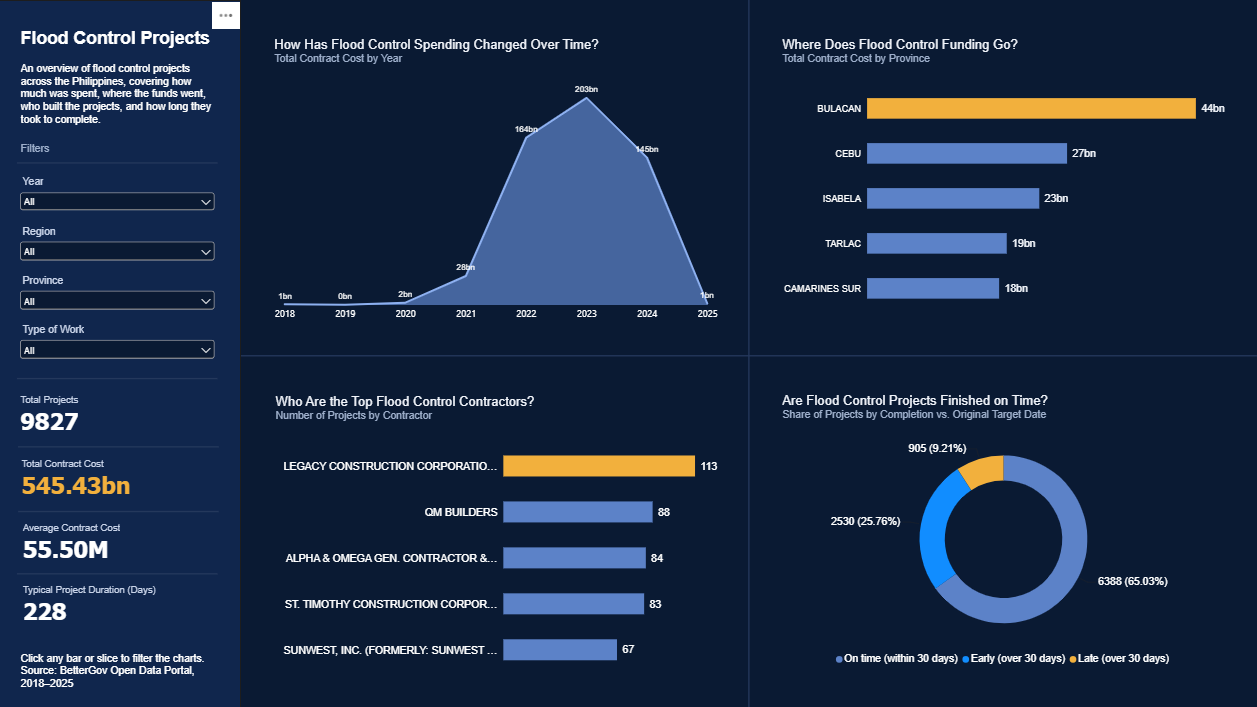

Layout of this report page (visuals, bound fields, positions):
{"tool":"powerbi","page":{"name":"Page 1","canvas":[1920,1080],"ordinal":0},"visuals":[{"type":"shape","box":[376.4,0,1541.8,1080],"z":0},{"type":"shape","box":[0,0,376.4,1080],"z":1000},{"type":"cardVisual","fields":{"Data":["Count(flood_control.ProjectID)"]},"box":[26.4,581.8,322.5,96.2],"z":2000},{"type":"clusteredBarChart","title":"Where Does Flood Control Funding Go?","fields":{"Category":["flood_control.Province"],"Y":["Sum(flood_control.ContractCost)"]},"box":[1182,42,704,458],"z":3000},{"type":"shape","box":[37.3,556.4,304.3,36.4],"z":4000},{"type":"slicer","fields":{"Values":["flood_control.InfraYear"]},"box":[35.6,267.2,304.9,65],"z":5000},{"type":"shape","box":[38,660,304.3,36.4],"z":6000},{"type":"cardVisual","fields":{"Data":["Sum(flood_control.ContractCost)"]},"box":[27.3,679.1,322.5,96.2],"z":7000},{"type":"textbox","box":[41.4,41.4,303.1,53.8],"z":8000},{"type":"shape","box":[37.8,757.8,304.3,36.4],"z":9000},{"type":"slicer","fields":{"Values":["flood_control.Region"]},"box":[35.6,342.3,304.9,65],"z":10000},{"type":"cardVisual","fields":{"Data":["Avg(flood_control.ContractCost)"]},"box":[28.2,775.5,322.5,96.2],"z":11000},{"type":"shape","box":[36.7,852.2,304.3,36.4],"z":12000},{"type":"slicer","fields":{"Values":["flood_control.Province"]},"box":[35.6,416.3,304.9,65],"z":13000},{"type":"slicer","fields":{"Values":["flood_control.TypeofWork"]},"box":[36.4,490.9,304.9,65],"z":14000},{"type":"textbox","box":[41.8,94.5,296.4,127.3],"z":15000},{"type":"cardVisual","fields":{"Data":["Median(flood_control.DurationDays)"]},"box":[28.6,870,322.5,96.2],"z":16000},{"type":"textbox","box":[41.8,989.1,301.8,61.8],"z":17000},{"type":"textbox","box":[41.4,217,303,44],"z":18000},{"type":"shape","box":[36.7,228.7,304.3,36.4],"z":19000},{"type":"shape","box":[376.4,523.6,1541.8,32.7],"z":20000},{"type":"areaChart","title":"How Has Flood Control Spending Changed Over Time?","fields":{"Category":["Year Axis.InfraYear"],"Y":["flood_control.Spend Up To Selected Year"]},"box":[410.9,41.8,705.5,465.5],"z":21000},{"type":"clusteredBarChart","title":"Who Are the Top Flood Control Contractors? ","fields":{"Category":["flood_control.Contractor"],"Y":["Count(flood_control.ContractID)"]},"box":[412,583.4,702.9,465.7],"z":22000},{"type":"donutChart","title":"Are Flood Control Projects Finished on Time?","fields":{"Category":["flood_control.Completion Status"],"Y":["CountNonNull(flood_control.ProjectID)"]},"box":[1182,582,704,450],"z":23000}]}

Visuals, with their boxes in screenshot pixels (x1, y1, x2, y2), scaled from the page's 1920x1080 canvas onto the 1257x707 screenshot:
shape: (246, 0, 1256, 706)
shape: (0, 0, 246, 706)
cardVisual - Count(flood_control.ProjectID): (17, 381, 228, 444)
"Where Does Flood Control Funding Go?" clusteredBarChart: (774, 27, 1235, 327)
shape: (24, 364, 224, 388)
slicer - flood_control.InfraYear: (23, 175, 223, 217)
shape: (25, 432, 224, 456)
cardVisual - Sum(flood_control.ContractCost): (18, 445, 229, 508)
textbox: (27, 27, 226, 62)
shape: (25, 496, 224, 520)
slicer - flood_control.Region: (23, 224, 223, 267)
cardVisual - Avg(flood_control.ContractCost): (18, 508, 230, 571)
shape: (24, 558, 223, 582)
slicer - flood_control.Province: (23, 273, 223, 315)
slicer - flood_control.TypeofWork: (24, 321, 223, 364)
textbox: (27, 62, 221, 145)
cardVisual - Median(flood_control.DurationDays): (19, 570, 230, 633)
textbox: (27, 647, 225, 688)
textbox: (27, 142, 225, 171)
shape: (24, 150, 223, 174)
shape: (246, 343, 1256, 364)
"How Has Flood Control Spending Changed Over Time?" areaChart: (269, 27, 731, 332)
"Who Are the Top Flood Control Contractors? " clusteredBarChart: (270, 382, 730, 687)
"Are Flood Control Projects Finished on Time?" donutChart: (774, 381, 1235, 676)
